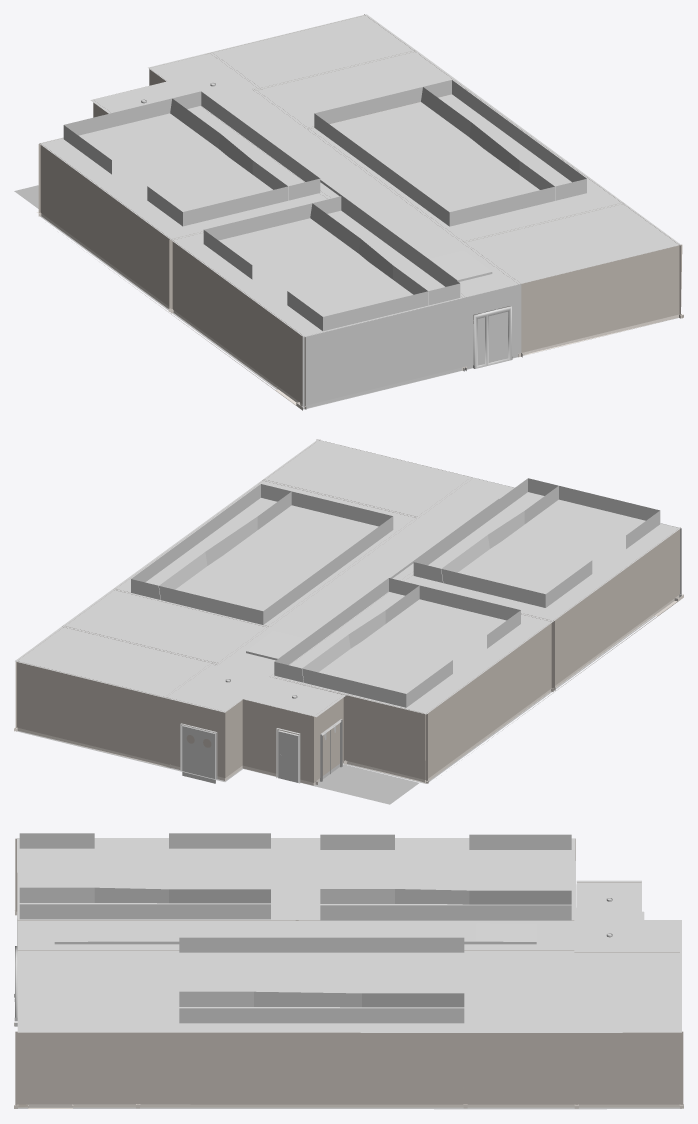
The model's file is HALLWAYwlights.fbx.
3 views of the same model, one above another, from view 1: azimuth 30°, elevation 25°; view 2: azimuth 150°, elevation 25°; view 3: azimuth 270°, elevation 25° (orthographic). The views are drawn at different scales.
Parts seen in each view (by area): view 1: toit, Cube.087, Cube.079, Cube.084, Cube.104, Cube.114, Cube.123, Cube.094, Cube.069, Cube.003, sol; view 2: toit, Cube.087, Cube.083, Cube.104, Cube.114, Cube.123, Cube, Cube.094, Cube.088, sol, Cube.001, Cube.074 (+1 smaller); view 3: toit, Cube.086, Cube.104, Cube.114, Cube.123, Cube.094, sol.
Part boxes in pixels (x1,y1,x2,y2): toit: (39,14,680,337); Cube.087: (37,143,306,410); Cube.079: (521,244,683,357); Cube.084: (302,298,466,409); Cube.104: (314,80,586,226); Cube.114: (203,196,460,331); Cube.123: (63,91,320,226); Cube.094: (231,104,492,281); Cube.069: (463,284,522,371); Cube.003: (473,306,511,368); sol: (14,185,678,409); toit: (15,439,680,717); Cube.087: (425,527,683,783); Cube.083: (14,661,170,767); Cube.104: (131,484,393,624); Cube.114: (413,478,660,607); Cube.123: (274,578,520,707); Cube: (170,513,421,785); Cube.094: (246,490,499,660); Cube.088: (343,694,428,783); sol: (15,616,655,804); Cube.001: (274,575,412,784); Cube.074: (182,725,215,783); toit: (17,838,681,1032); Cube.086: (15,1031,683,1108); Cube.104: (179,937,464,1023); Cube.114: (19,833,270,919); Cube.123: (320,834,571,920); Cube.094: (54,923,536,944); sol: (17,915,681,1109).
Size of the model in its own units: 1668 by 386 by 2407.
